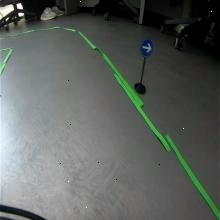right: (141, 37, 154, 58)
